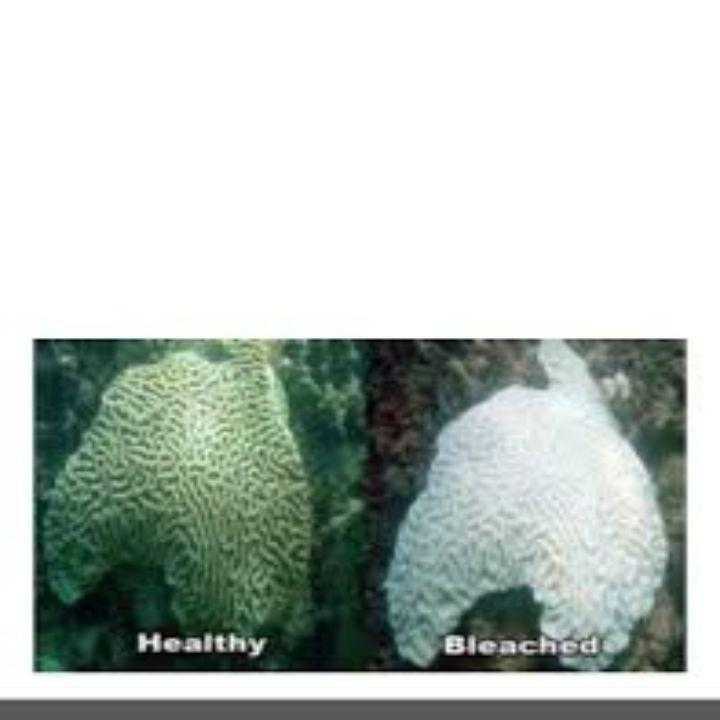Bleached disease: (372, 351, 668, 638)
Healthy Coral: (41, 348, 328, 632)
